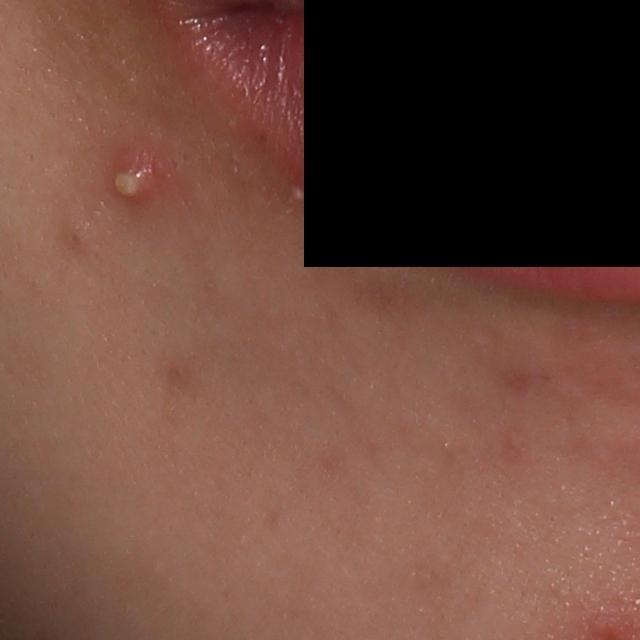pustule: (103, 144, 161, 209), (287, 182, 310, 204)
